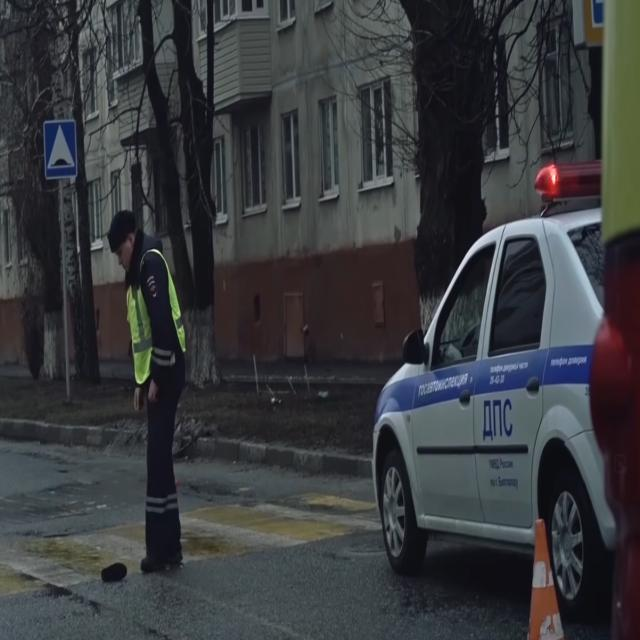police car: (375, 158, 616, 617)
